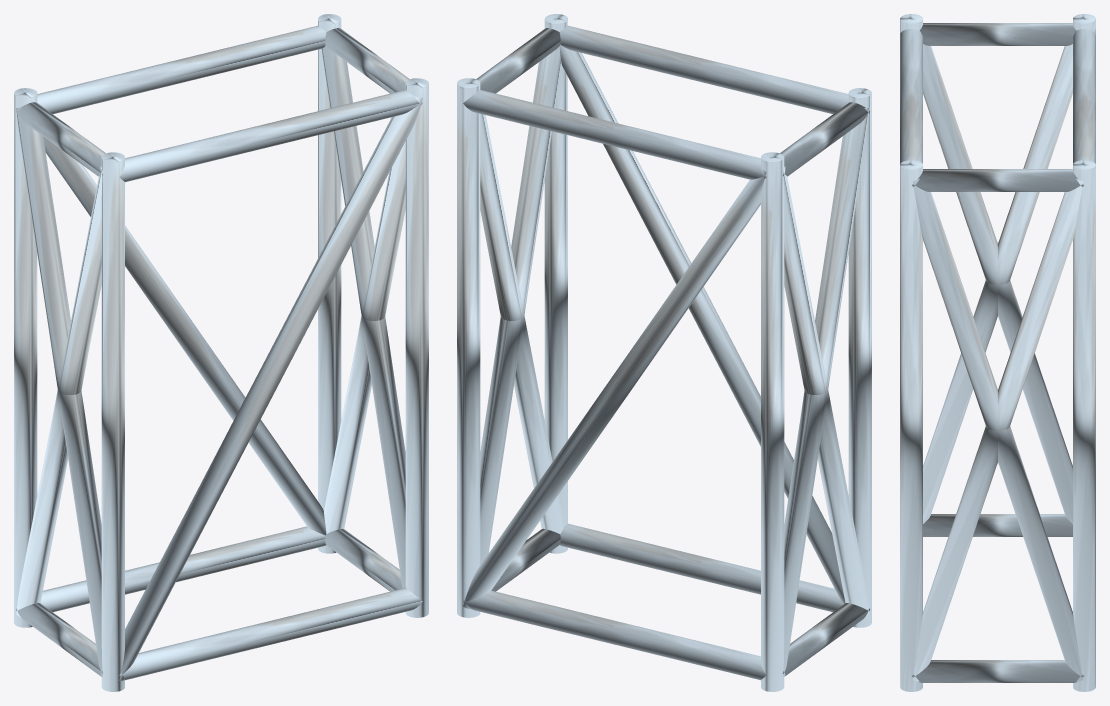
Rendered from scaffolding_connector.fbx.
3 renders of one model, left to right at view 1: azimuth 30°, elevation 25°; view 2: azimuth 150°, elevation 25°; view 3: azimuth 270°, elevation 25°, orthographic.
Visible parts, largest first — view 1: Cylinder.012; view 2: Cylinder.012; view 3: Cylinder.012.
Part boxes in pixels (x1,y1,x2,y2): Cylinder.012: (14, 14, 428, 691); Cylinder.012: (457, 14, 871, 691); Cylinder.012: (900, 14, 1095, 691).
Bounding box in the file's own units: 640 × 1000 × 340.
Materials: 18 (18 with a texture image).
